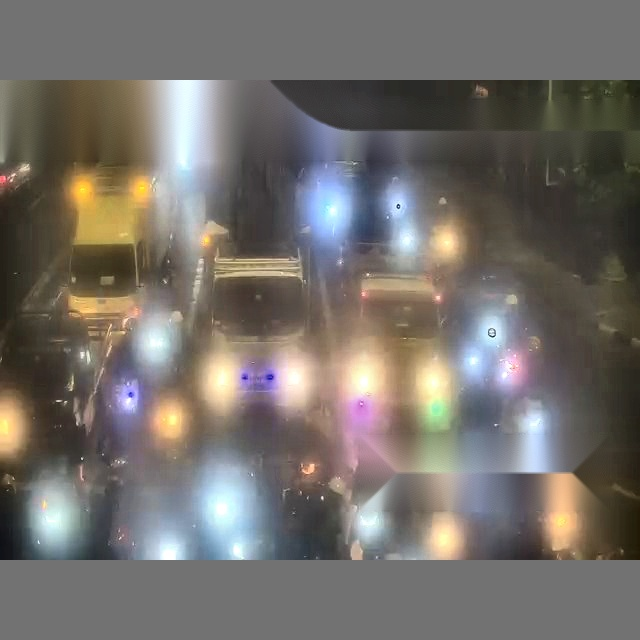Motor: (0, 387, 31, 466), (154, 392, 188, 463), (498, 352, 524, 431)
